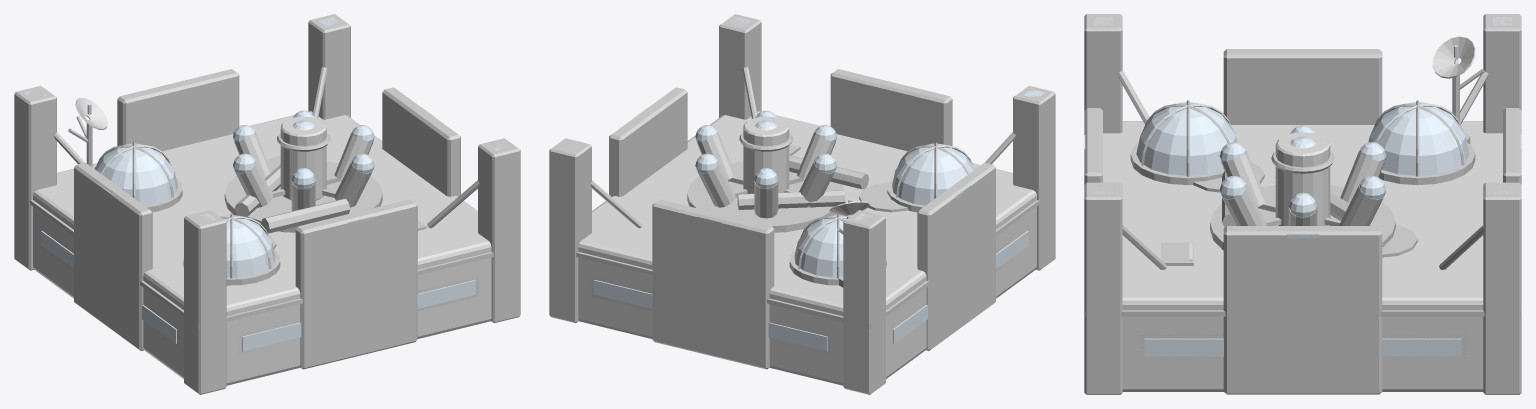
File: SM_StationModule_CyberneticsLab_01.fbx
3 views of the same model, side by side, from view 1: azimuth 30°, elevation 25°; view 2: azimuth 150°, elevation 25°; view 3: azimuth 270°, elevation 25° (orthographic). The views are drawn at different scales.
Parts seen in each view (by area): view 1: SM_StationModule_CyberneticsLab_01; view 2: SM_StationModule_CyberneticsLab_01; view 3: SM_StationModule_CyberneticsLab_01.
Part boxes in pixels (x1,y1,x2,y2): SM_StationModule_CyberneticsLab_01: [14, 14, 520, 394]; SM_StationModule_CyberneticsLab_01: [549, 14, 1055, 394]; SM_StationModule_CyberneticsLab_01: [1084, 14, 1521, 394].
Size of what is drawn, in the model's own units: 800 by 800 by 400.
